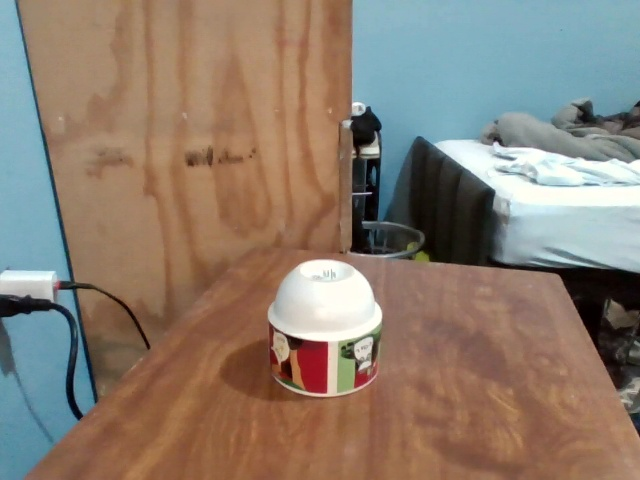taza: (267, 259, 383, 398)
